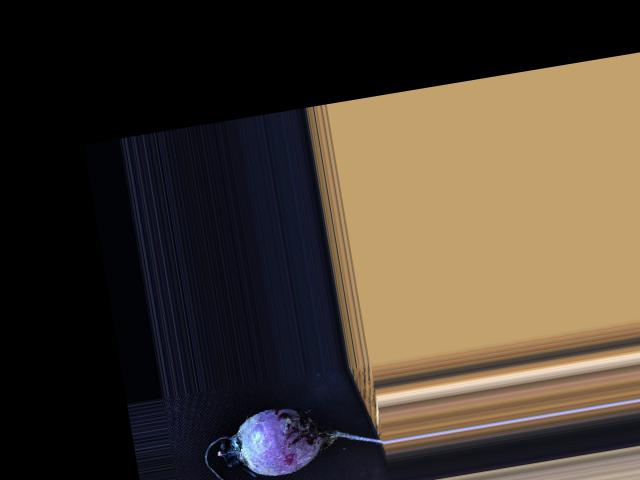beet: (198, 390, 392, 480)
